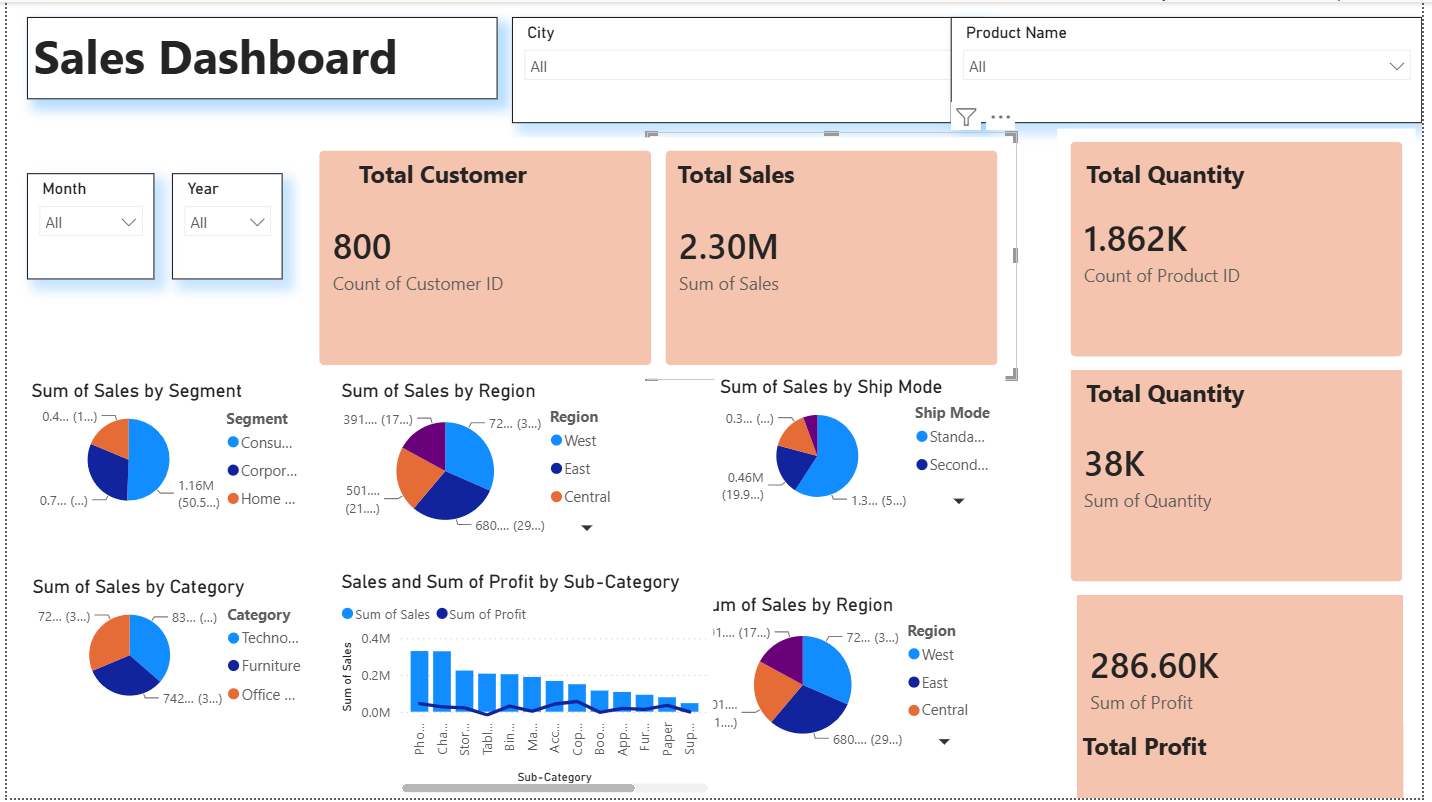

The dashboard page shown, as its layout file describes it:
{"tool":"powerbi","page":{"name":"Page 1","canvas":[1280,720],"ordinal":0},"visuals":[{"type":"textbox","box":[17.8,13.7,425.4,74.1],"z":0},{"type":"slicer","fields":{"Values":["Sales Overview Data xlsx - Sales Data.City"]},"box":[456.9,13.7,426.8,96.1],"z":1000},{"type":"slicer","fields":{"Values":["Sales Overview Data xlsx - Sales Data.Product Name"]},"box":[853.5,13.7,426.8,96.1],"z":2000},{"type":"slicer","fields":{"Values":["Sales Overview Data xlsx - Sales Data.Order Date.Variation.Date Hierarchy.Year"]},"box":[149.6,155.1,100.2,96.1],"z":3000},{"type":"slicer","fields":{"Values":["Sales Overview Data xlsx - Sales Data.Order Date.Variation.Date Hierarchy.Month"]},"box":[17.8,155.1,115.3,96.1],"z":4000},{"type":"cardVisual","title":"Total Sales","fields":{"Data":["Sum(Sales Overview Data xlsx - Sales Data.Sales)"]},"box":[579.1,118,334.8,223.7],"z":5000},{"type":"cardVisual","title":"Total Sales","fields":{"Data":["Sum(Sales Overview Data xlsx - Sales Data.Profit)"]},"box":[950.9,496.7,329.3,223.7],"z":6000},{"type":"textbox","box":[601,135.8,241.5,67.2],"z":7000},{"type":"textbox","box":[967.4,653.2,295,67.2],"z":8000},{"type":"cardVisual","title":"Total Sales","fields":{"Data":["Sum(Sales Overview Data xlsx - Sales Data.Quantity)"]},"box":[945.5,312.9,334.8,223.7],"z":9000},{"type":"textbox","box":[971.5,333.4,241.5,67.2],"z":10000},{"type":"cardVisual","title":"Total Sales","fields":{"Data":["Count(Sales Overview Data xlsx - Sales Data.Customer ID)"]},"box":[266.2,118,334.8,223.7],"z":11000},{"type":"textbox","box":[312.9,135.8,241.5,67.2],"z":12000},{"type":"cardVisual","title":"Total Sales","fields":{"Data":["Count(Sales Overview Data xlsx - Sales Data.Product ID)"]},"box":[945.5,109.8,334.8,223.7],"z":13000},{"type":"textbox","box":[971.5,135.8,241.5,67.2],"z":14000},{"type":"pieChart","fields":{"Category":["Sales Overview Data xlsx - Sales Data.Category"],"Y":["Sum(Sales Overview Data xlsx - Sales Data.Sales)"]},"box":[17.8,518.7,262.1,124.9],"z":15000},{"type":"pieChart","fields":{"Y":["Sum(Sales Overview Data xlsx - Sales Data.Sales)"],"Category":["Sales Overview Data xlsx - Sales Data.Region"]},"box":[297.8,341.7,263.5,146.8],"z":16000},{"type":"pieChart","fields":{"Y":["Sum(Sales Overview Data xlsx - Sales Data.Sales)"],"Category":["Sales Overview Data xlsx - Sales Data.Segment"]},"box":[16.5,341.7,263.5,126.2],"z":17000},{"type":"pieChart","fields":{"Y":["Sum(Sales Overview Data xlsx - Sales Data.Sales)"],"Category":["Sales Overview Data xlsx - Sales Data.Ship Mode"]},"box":[639.5,337.6,263.5,126.2],"z":18000},{"type":"pieChart","fields":{"Y":["Sum(Sales Overview Data xlsx - Sales Data.Sales)"],"Category":["Sales Overview Data xlsx - Sales Data.Region"]},"box":[620.2,535.2,263.5,146.8],"z":19000},{"type":"lineStackedColumnComboChart","title":"Sales and Sum of Profit by Sub-Category","fields":{"Y":["Sum(Sales Overview Data xlsx - Sales Data.Sales)"],"Y2":["Sum(Sales Overview Data xlsx - Sales Data.Profit)"],"Category":["Sales Overview Data xlsx - Sales Data.Sub-Category"]},"box":[297.8,514.6,341.7,205.8],"z":20000}]}

Visuals, with their boxes in screenshot pixels (x1, y1, x2, y2), scaled from the page's 1280x720 canvas onto the 1432x802 screenshot:
textbox: bbox=[20, 15, 496, 98]
slicer - Sales Overview Data xlsx - Sales Data.City: bbox=[511, 15, 989, 122]
slicer - Sales Overview Data xlsx - Sales Data.Product Name: bbox=[955, 15, 1431, 122]
slicer - Sales Overview Data xlsx - Sales Data.Order Date.Variation.Date Hierarchy.Year: bbox=[167, 173, 279, 280]
slicer - Sales Overview Data xlsx - Sales Data.Order Date.Variation.Date Hierarchy.Month: bbox=[20, 173, 149, 280]
"Total Sales" cardVisual: bbox=[648, 131, 1022, 381]
"Total Sales" cardVisual: bbox=[1064, 553, 1431, 801]
textbox: bbox=[672, 151, 943, 226]
textbox: bbox=[1082, 728, 1412, 801]
"Total Sales" cardVisual: bbox=[1058, 349, 1431, 598]
textbox: bbox=[1087, 371, 1357, 446]
"Total Sales" cardVisual: bbox=[298, 131, 672, 381]
textbox: bbox=[350, 151, 620, 226]
"Total Sales" cardVisual: bbox=[1058, 122, 1431, 371]
textbox: bbox=[1087, 151, 1357, 226]
pieChart - Sales Overview Data xlsx - Sales Data.Category x Sum(Sales Overview Data xlsx - Sales Data.Sales): bbox=[20, 578, 313, 717]
pieChart - Sum(Sales Overview Data xlsx - Sales Data.Sales) x Sales Overview Data xlsx - Sales Data.Region: bbox=[333, 381, 628, 544]
pieChart - Sum(Sales Overview Data xlsx - Sales Data.Sales) x Sales Overview Data xlsx - Sales Data.Segment: bbox=[18, 381, 313, 521]
pieChart - Sum(Sales Overview Data xlsx - Sales Data.Sales) x Sales Overview Data xlsx - Sales Data.Ship Mode: bbox=[715, 376, 1010, 517]
pieChart - Sum(Sales Overview Data xlsx - Sales Data.Sales) x Sales Overview Data xlsx - Sales Data.Region: bbox=[694, 596, 989, 760]
"Sales and Sum of Profit by Sub-Category" lineStackedColumnComboChart: bbox=[333, 573, 715, 801]
